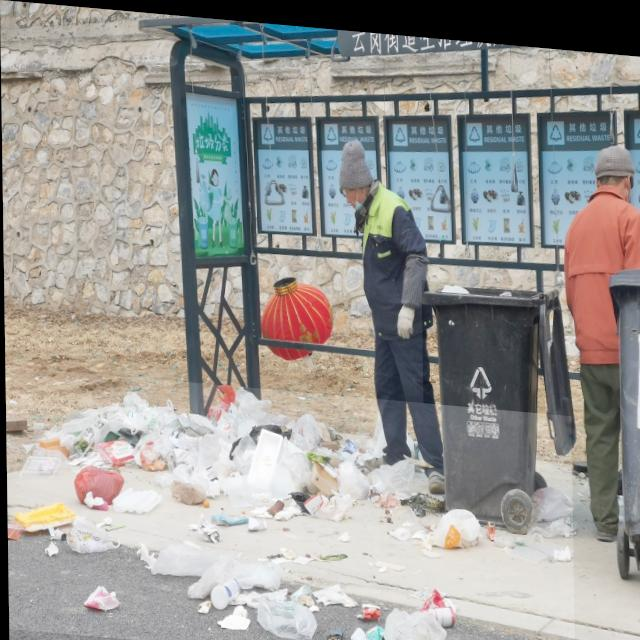garbage: (4, 366, 573, 640)
garbage_bin: (421, 273, 545, 519)
